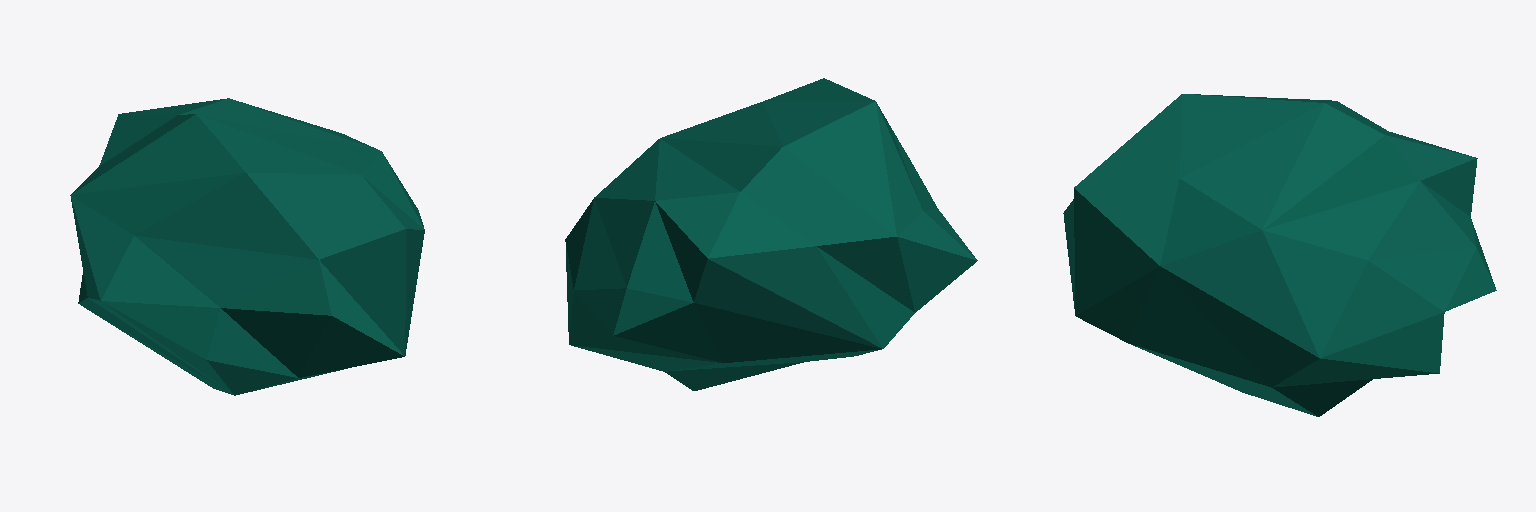
The model's file is asteroid.obj.
3 views of the same model, side by side, from view 1: azimuth 30°, elevation 25°; view 2: azimuth 150°, elevation 25°; view 3: azimuth 270°, elevation 25° (orthographic).
Parts seen in each view (by area): view 1: asteroidLP.001; view 2: asteroidLP.001; view 3: asteroidLP.001.
Part boxes in pixels (x1,y1,x2,y2): asteroidLP.001: (70, 98, 424, 395); asteroidLP.001: (565, 78, 977, 390); asteroidLP.001: (1063, 94, 1496, 416).
Size of the model in its own units: 3 by 2.11 by 3.08.